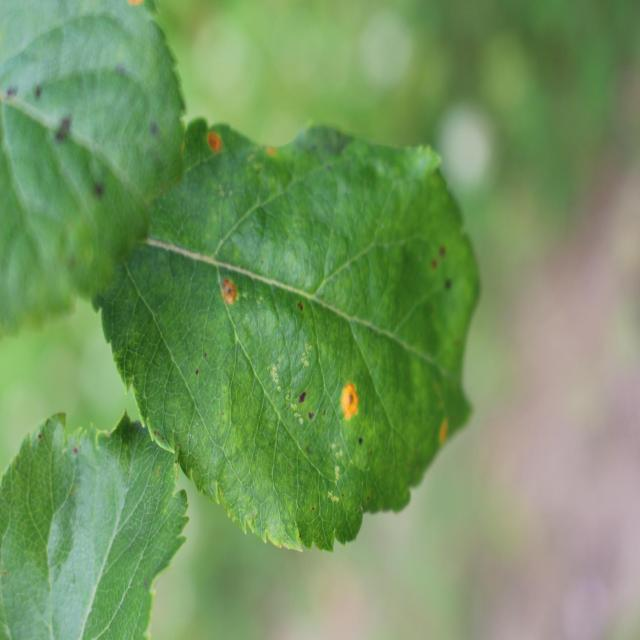Rust: (212, 257, 244, 317), (336, 356, 359, 437), (194, 116, 233, 160), (430, 412, 455, 458), (263, 138, 279, 166)
